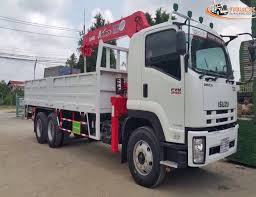truck: (22, 18, 239, 188)
